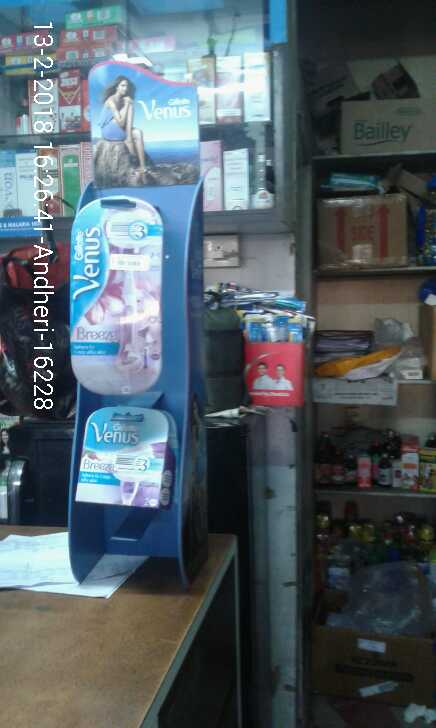beauty: (70, 190, 166, 393), (74, 407, 176, 514)
